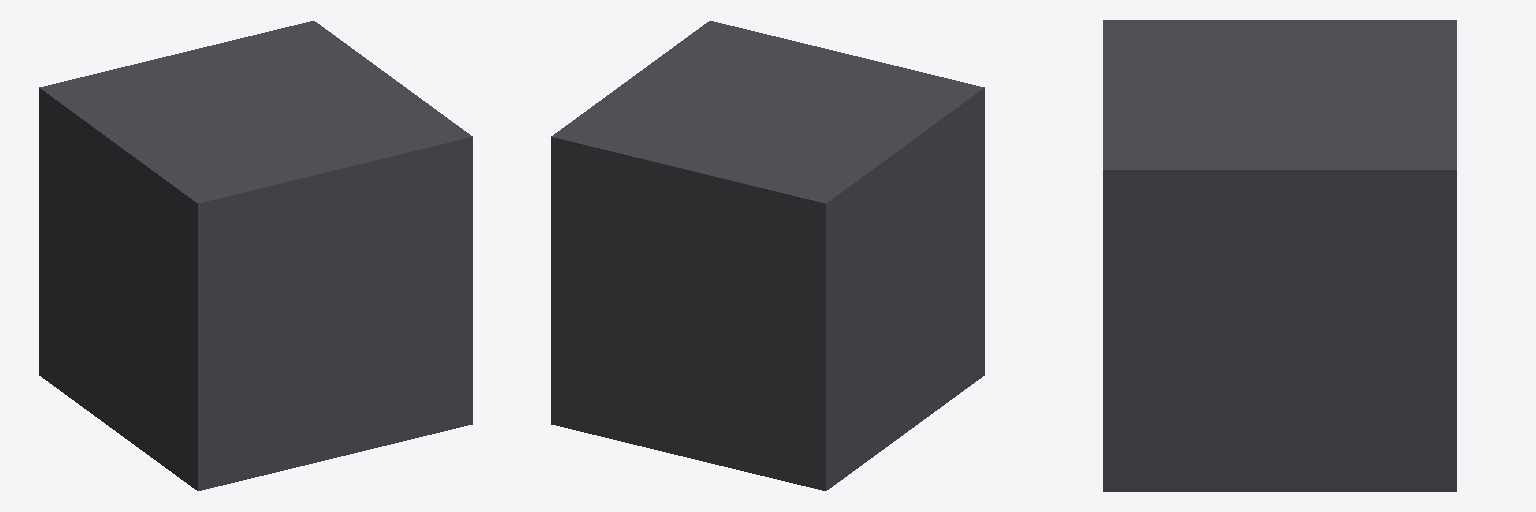
The robot description file, URDF, robot "robot":
<?xml version="1.0" ?>
<robot name="robot">
    <link name="base_link">
        <inertial>
            <mass value="0" />
            <inertia ixx = "0" ixy = "0" ixz = "0"
                iyx = "0" iyy = "0" iyz = "0"
                izx = "0" izy = "0" izz = "0" />
        </inertial>
    </link>
    <joint name="center_z" type="prismatic">
        <parent link="base_link"/>
        <child link="y_control"/>
        <axis xyz="0 0 1"/>
        <limit effort="1000.0" lower="-0.1" upper="1.1" velocity="0.2"/>
    </joint>
    <link name="y_control">
        <inertial>
            <mass value="0.1" />
            <inertia ixx = "0" ixy = "0" ixz = "0"
                iyx = "0" iyy = "0" iyz = "0"
                izx = "0" izy = "0" izz = "0" />
        </inertial>
    </link>
    <joint name="center_y" type="prismatic">
        <parent link="y_control"/>
        <child link="x_control"/>
        <axis xyz="0 1 0"/>
        <limit effort="1000.0" lower="-1.1" upper="1.1" velocity="0.2"/>
    </joint>
    <link name="x_control">
        <inertial>
            <mass value="0.1" />
            <inertia ixx = "0" ixy = "0" ixz = "0"
                iyx = "0" iyy = "0" iyz = "0"
                izx = "0" izy = "0" izz = "0" />
        </inertial>
    </link>
    <joint name="center_x" type="prismatic">
        <parent link="x_control"/>
        <child link="roll_control"/>
        <axis xyz="1 0 0"/>
        <limit effort="1000.0" lower="-1.1" upper="1" velocity="0.2"/>
    </joint>
    <link name="roll_control">
        <inertial>
            <mass value="0.1" />
            <inertia ixx = "0" ixy = "0" ixz = "0"
                iyx = "0" iyy = "0" iyz = "0"
                izx = "0" izy = "0" izz = "0" />
        </inertial>
    </link>
    <joint name="gripper_roll" type="revolute">
        <parent link="roll_control"/>
        <child link="gripper_link"/>
        <axis xyz="0 0 1"/>
        <limit lower="-31.4" upper="31.4" velocity="3.14" effort="10000"/>
    </joint>
    <link name="gripper_link">
        <inertial>
            <origin rpy="0 0 0" xyz="0 0 0" />
            <mass value="1" />
            <inertia ixx="0" ixy="0" ixz="0" iyy="0" iyz="0" izz="0" />
        </inertial>
        <visual>
            <origin rpy="0 0 0" xyz="0 0 0" />
            <geometry>
                <box size="0.1 0.1 0.1"/>
            </geometry>
            <material name="a">
                <color rgba="0.356 0.361 0.376 1" />
            </material>
        </visual>
        <collision>
            <origin rpy="0 0 0" xyz="0 0 0" />
            <geometry>
                <box size="0.1 0.1 0.1"/>
            </geometry>
        </collision>
    </link>
</robot>

--- What the picture shows (computed from the rendered views, not written in the file) ---
3 views of the same robot in one strip: view 1: azimuth 30°, elevation 25°; view 2: azimuth 150°, elevation 25°; view 3: azimuth 270°, elevation 25° (orthographic).
Model robot with 5 links and 4 joints (1 revolute, 3 prismatic), rooted at base_link, posed all joints at 0.
Visible links, largest first — view 1: gripper_link; view 2: gripper_link; view 3: gripper_link.
Boxes of the visible links, x1=… form: gripper_link: x1=39, y1=21, x2=472, y2=490; gripper_link: x1=551, y1=21, x2=984, y2=490; gripper_link: x1=1103, y1=20, x2=1456, y2=491.
Bounding box of the posed robot: 0.1 × 0.1 × 0.1 m (x, y, z).
Geometry: primitives only (box / cylinder / sphere), no mesh files.